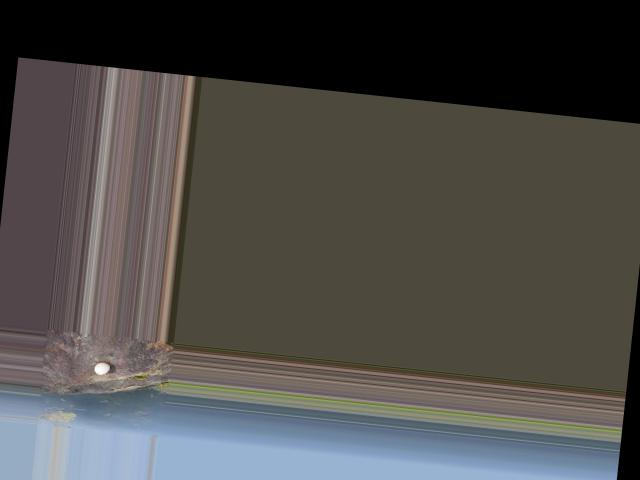egg: (92, 361, 110, 375)
